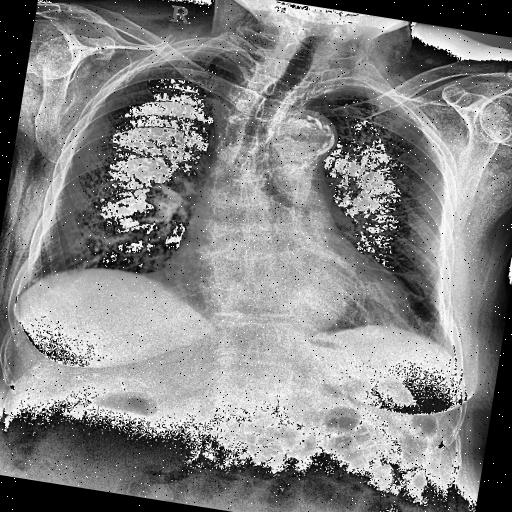13- Pulmonary fibrosis: (78, 184, 186, 276), (380, 264, 456, 344), (98, 131, 158, 166)
2- Calcification: (279, 106, 346, 172), (285, 100, 344, 162), (276, 105, 340, 160)
3- Cardiomegaly: (148, 200, 436, 372), (139, 228, 420, 343)
5- ILD: (22, 29, 246, 325), (278, 78, 480, 352), (50, 148, 186, 276), (374, 220, 458, 339)
